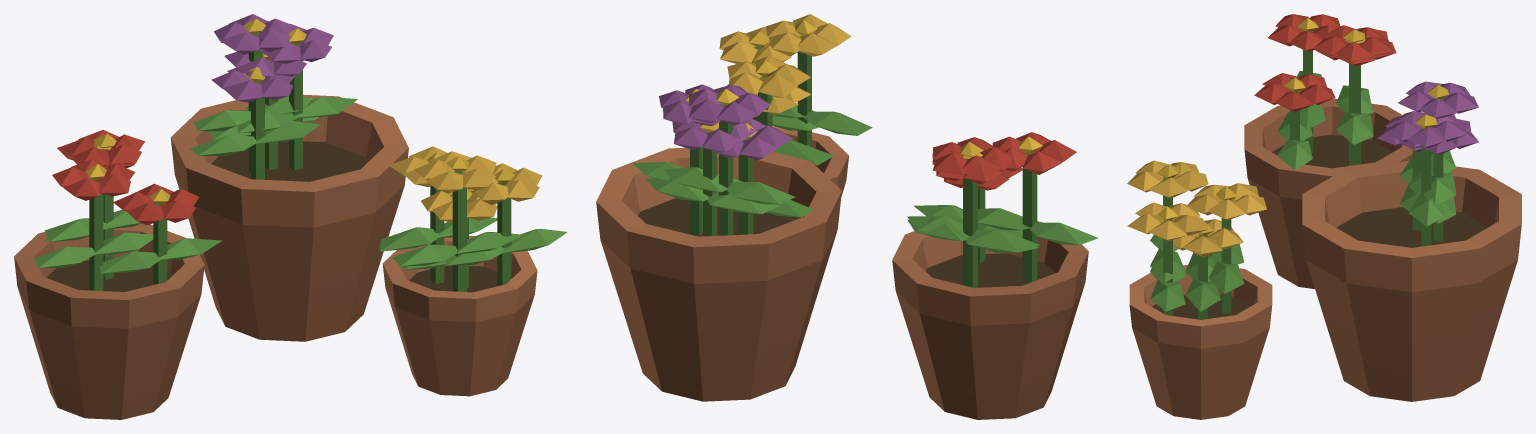
The model's file is town_flowerpots.glb.
The picture shows the model from 3 angles, left to right: view 1: azimuth 30°, elevation 25°; view 2: azimuth 150°, elevation 25°; view 3: azimuth 270°, elevation 25°; orthographic projection. The views are drawn at different scales.
Parts seen in each view (by area): view 1: town_flowerpots; view 2: town_flowerpots; view 3: town_flowerpots.
Part boxes in pixels (bbox=[...]): town_flowerpots: bbox=[14, 14, 567, 419]; town_flowerpots: bbox=[596, 14, 1098, 419]; town_flowerpots: bbox=[1127, 14, 1521, 419].
Size of the model in its own units: 1.29 by 0.768 by 0.9911.
